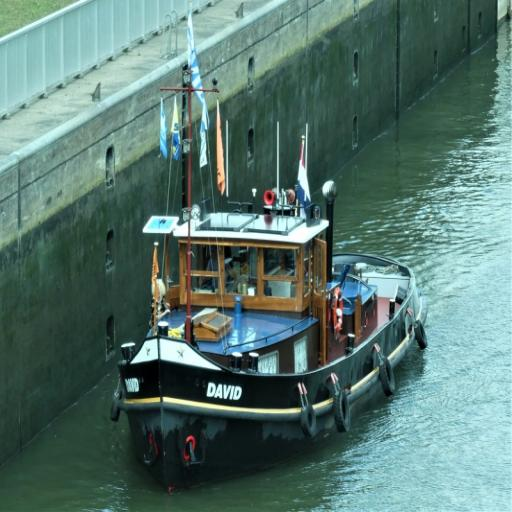tugboat: (109, 180, 431, 504)
